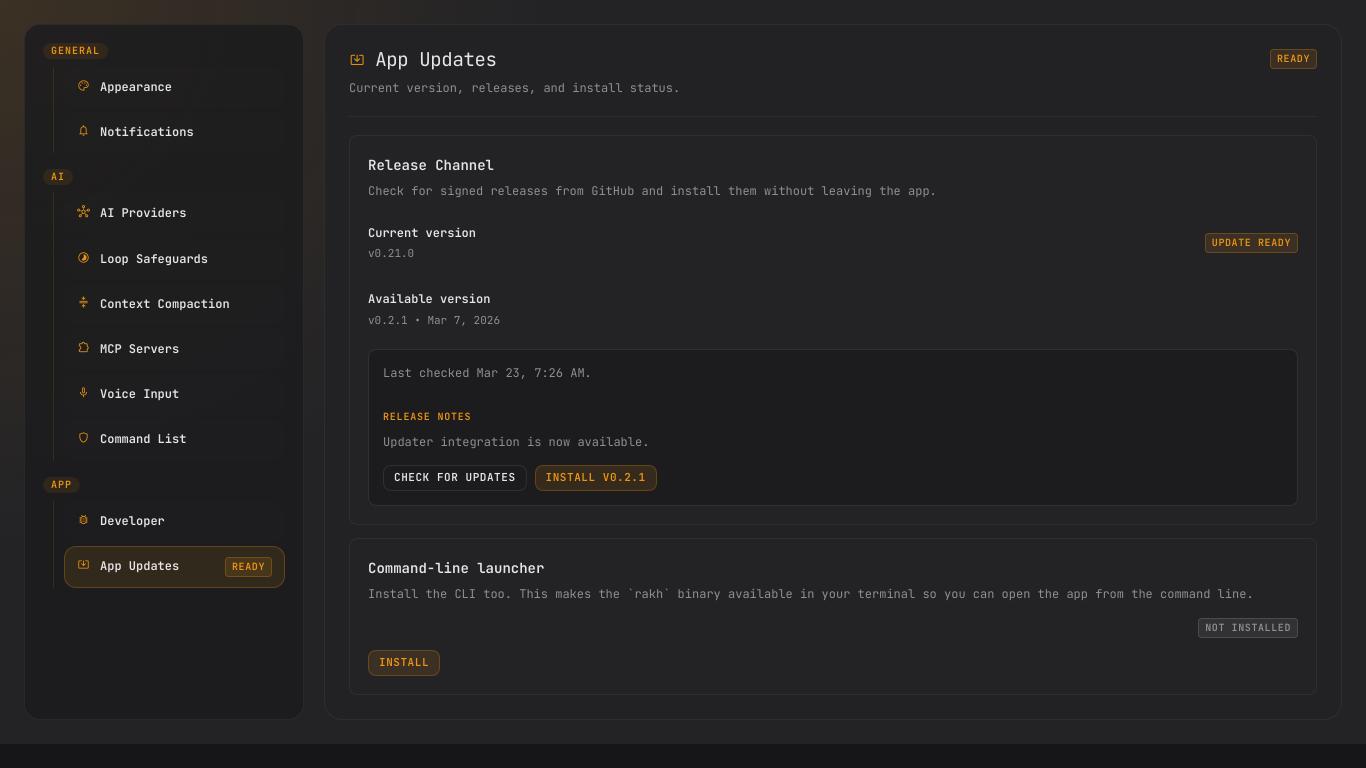
Test: SettingsPage › switches sections through the left navigation
The width and height of the screenshot is (1366, 768).
Expected: the heading "App Updates" is shown, 375,49 -> 496,71
Click the button "Appearance": point(174, 88) 64,67 -> 285,108
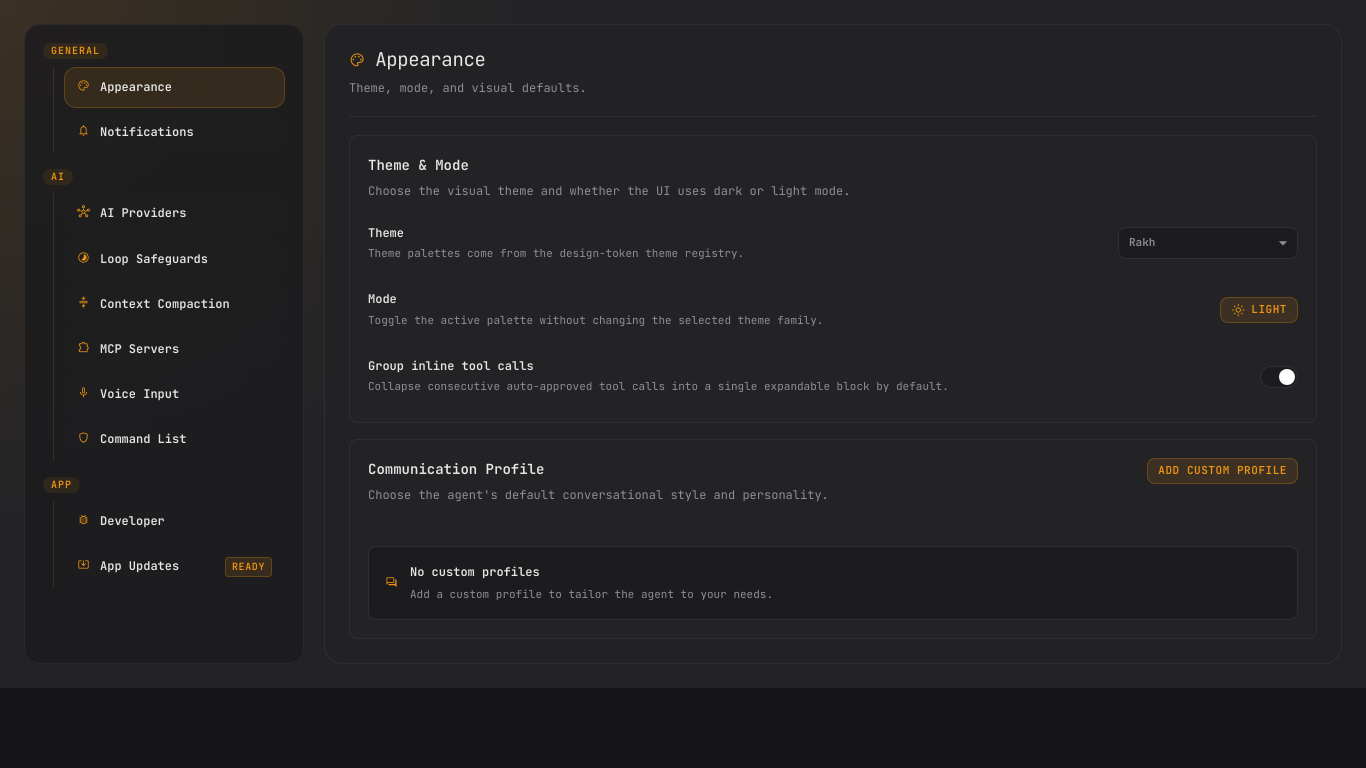
Now the heading "Appearance" is shown, box 375,49 -> 486,71
Now the heading "Theme & Mode" is shown, box 368,156 -> 469,174
Now the text "Theme" is shown, box 368,225 -> 404,241
